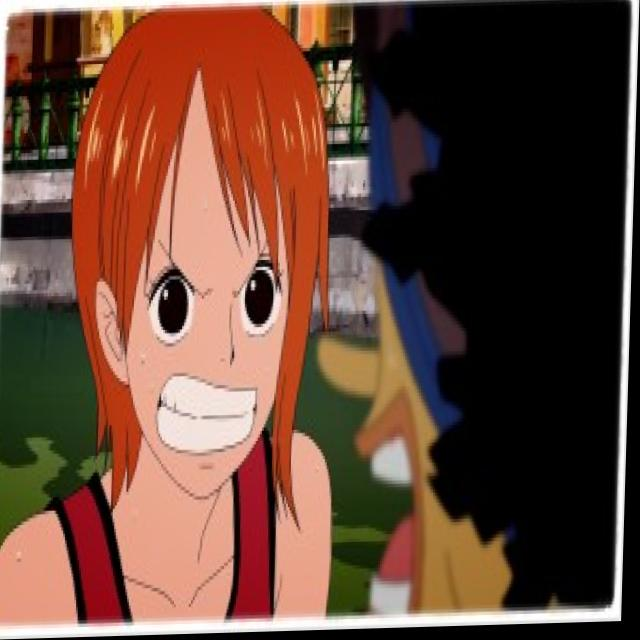Nami: (63, 7, 333, 507)
